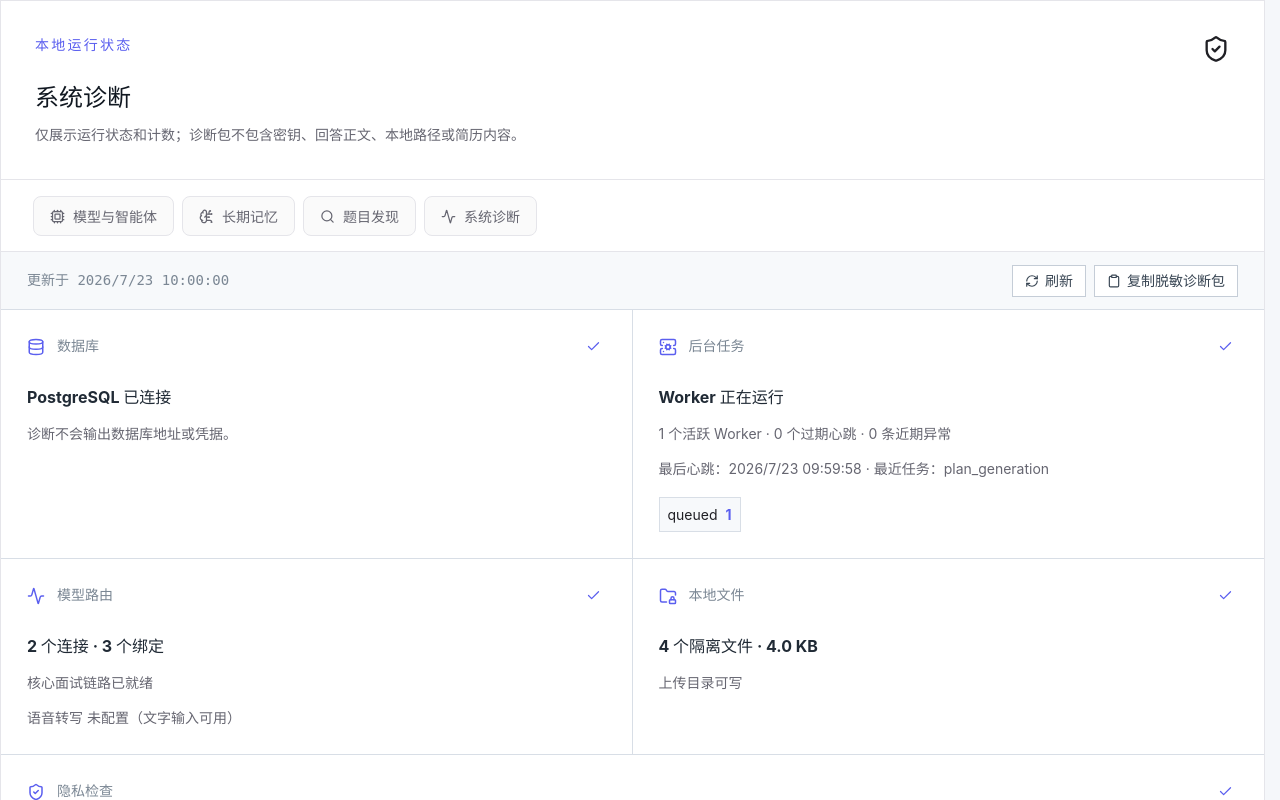
Test: DiagnosticsPage › shows operational counts and copies only the server-redacted bundle
Check: the text "PostgreSQL 已连接" is shown, box [27,387,171,407]
Check: the text "Worker 正在运行" is shown, box [658,387,784,407]
Click the button "复制脱敏诊断包" at (1166, 280), box [1094,264,1238,296]
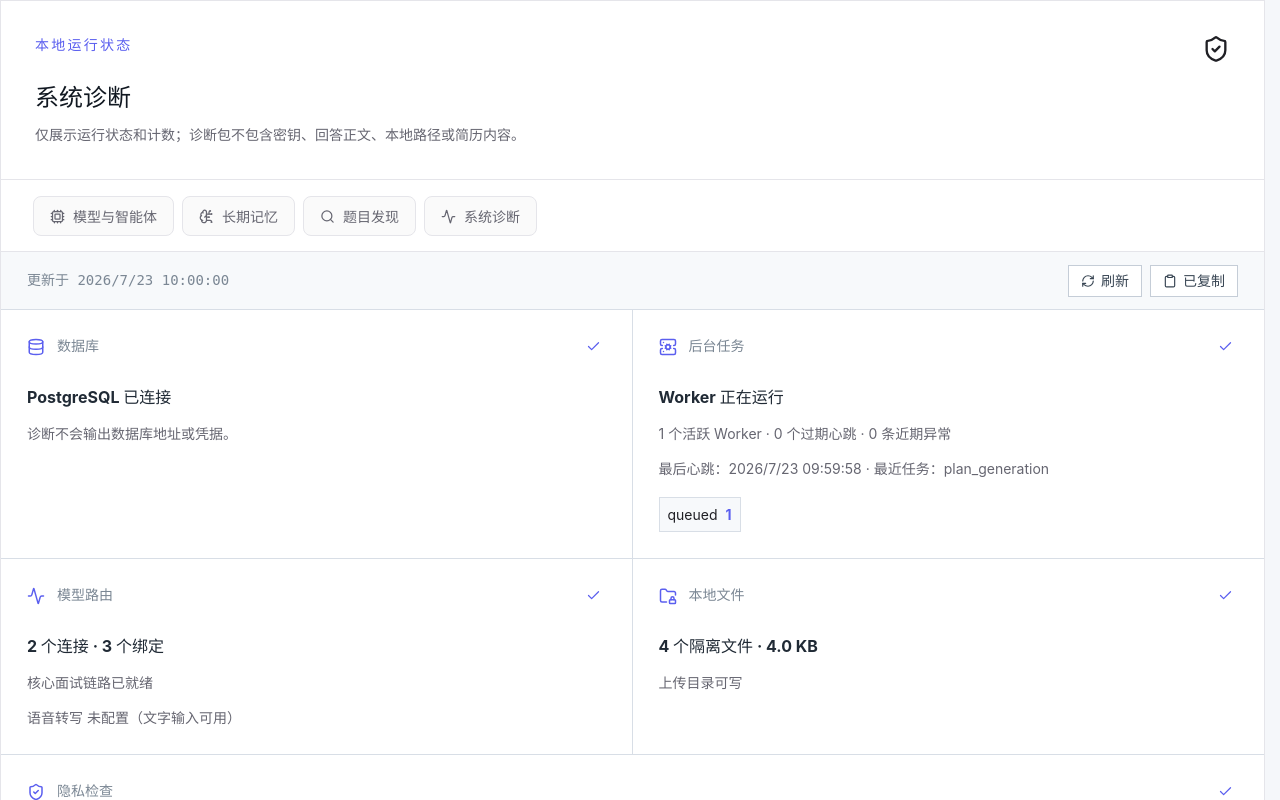
Check: the button "已复制" is shown, box [1150,264,1238,296]
